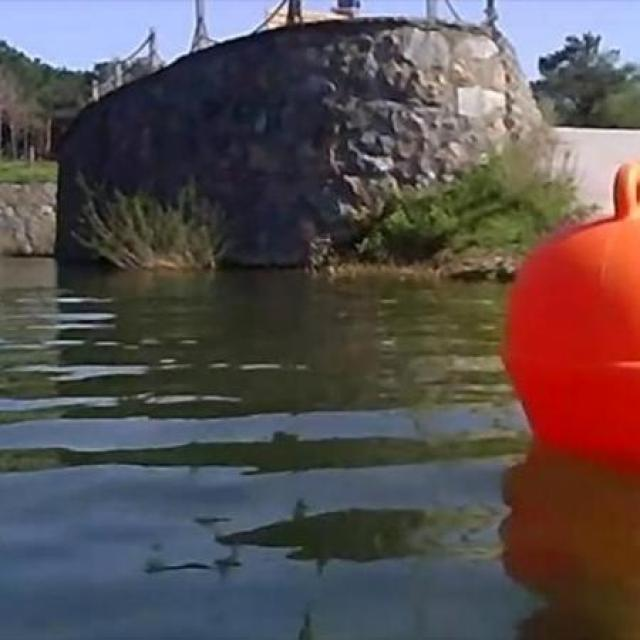buoy: (507, 158, 639, 475)
